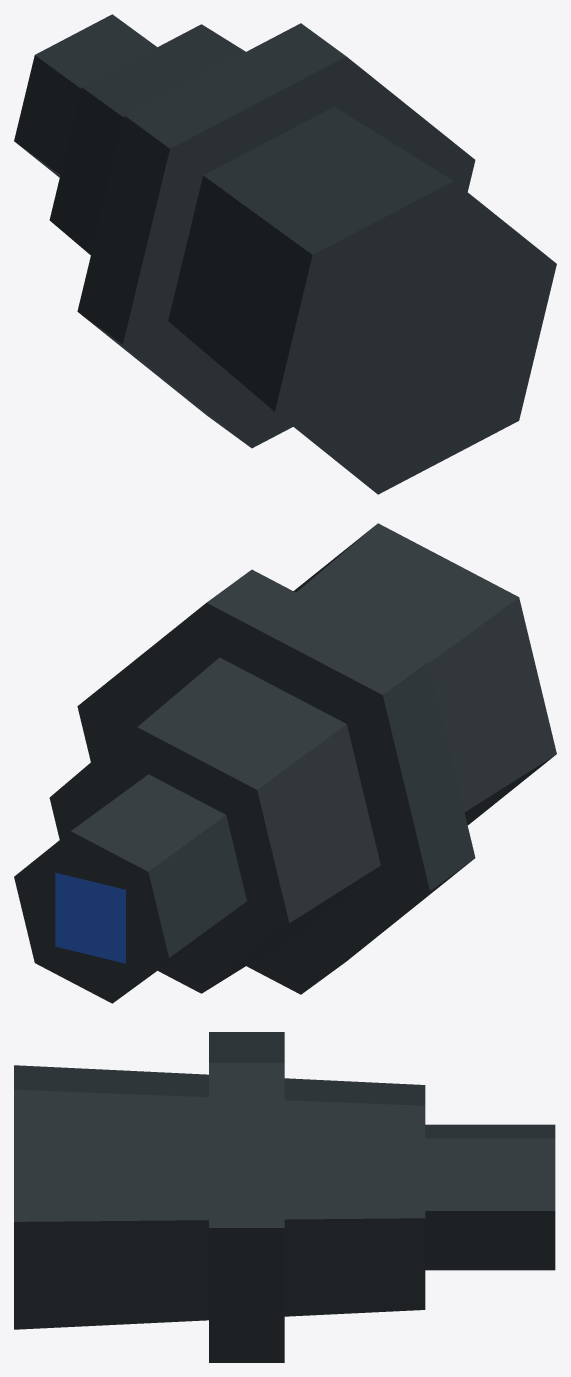
3 renders of one model, top to bottom at view 1: azimuth 30°, elevation 25°; view 2: azimuth 150°, elevation 25°; view 3: azimuth 270°, elevation 25°, orthographic. The views are drawn at different scales.
Visible parts, largest first — view 1: mount; view 2: mount; view 3: mount.
Part boxes in pixels (x1,y1,x2,y2): mount: (14,14,556,494); mount: (14,523,556,1003); mount: (14,1032,555,1362).
Bounding box in the file's own units: 6.28 × 6.28 × 10.03.
